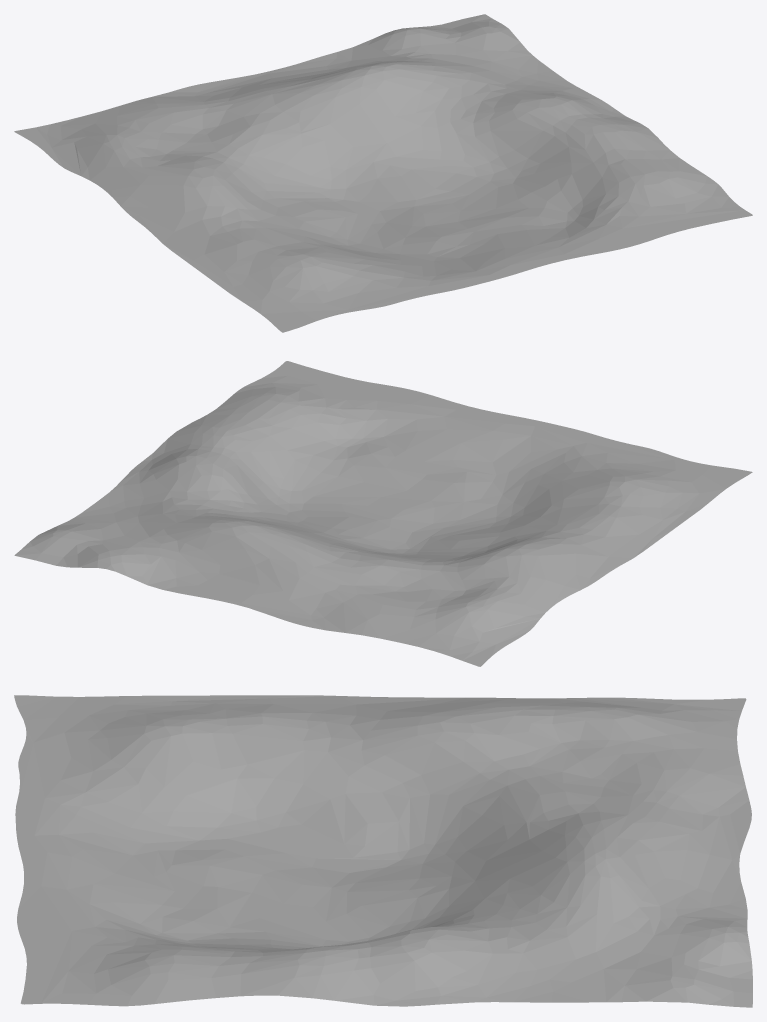
Rendered from LPW_Ground_A1_100x100_02.fbx.
The picture shows the model from 3 angles, top to bottom: view 1: azimuth 30°, elevation 25°; view 2: azimuth 150°, elevation 25°; view 3: azimuth 270°, elevation 25°; orthographic projection. The views are drawn at different scales.
Visible parts, largest first — view 1: LPW_Ground_A1_100x100_02; view 2: LPW_Ground_A1_100x100_02; view 3: LPW_Ground_A1_100x100_02.
Boxes of the visible parts, box(x1,y1,x2,y2) form: LPW_Ground_A1_100x100_02: box(14, 14, 752, 332); LPW_Ground_A1_100x100_02: box(14, 361, 752, 666); LPW_Ground_A1_100x100_02: box(14, 695, 752, 1007).
Bounding box in the file's own units: 100 × 10.85 × 100.
